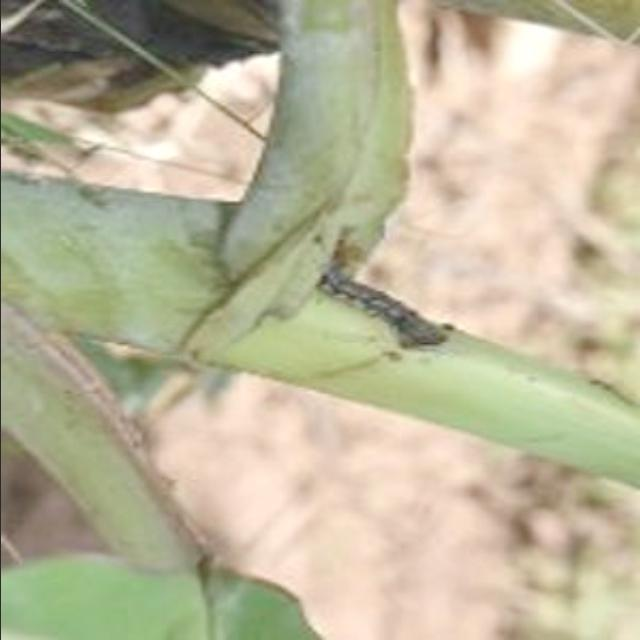Tobacco cutworm: (241, 162, 487, 424)
